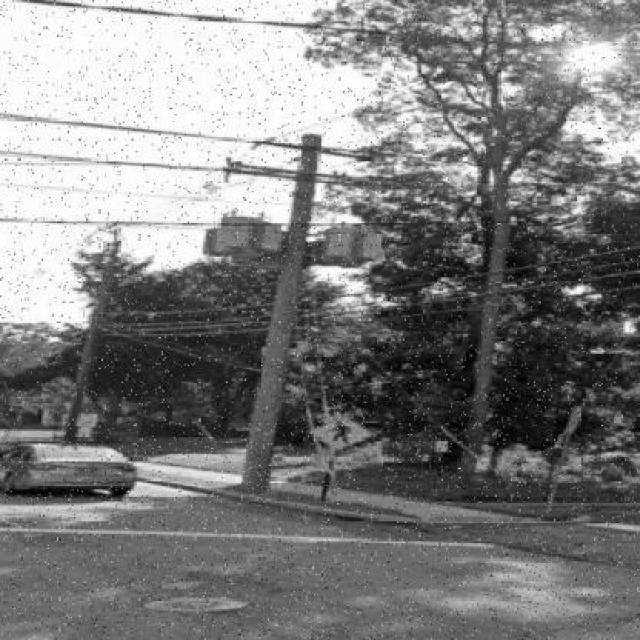pole: (154, 75, 437, 522)
